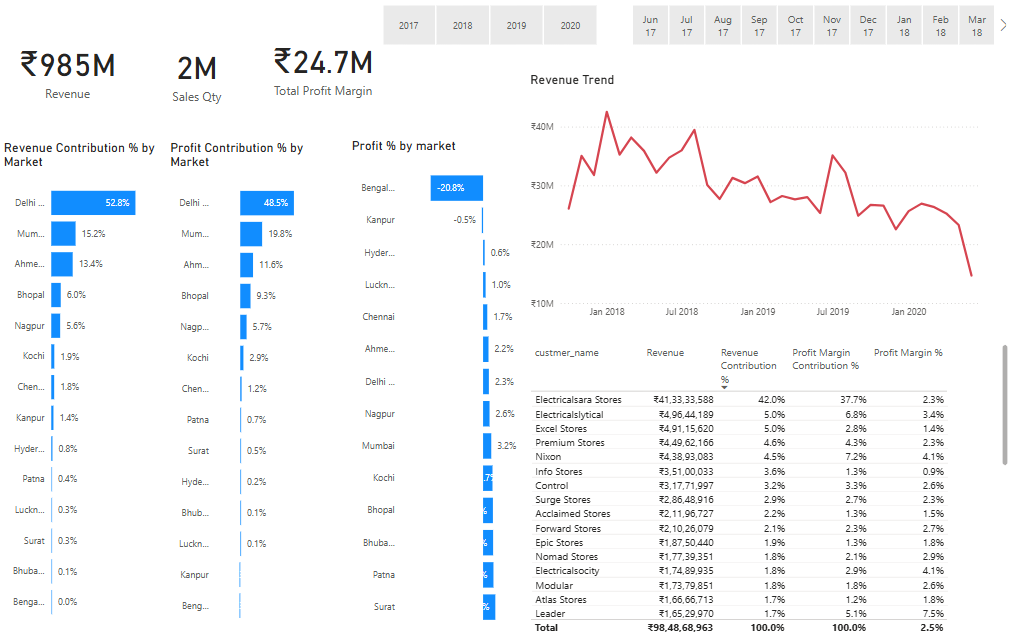

What the dashboard file says about the page in this screenshot:
{"tool":"powerbi","page":{"name":"Profit Analysis","canvas":[1350,850],"ordinal":1},"visuals":[{"type":"card","fields":{"Values":["BaseMeasures (2).Revenue"]},"box":[0,0,179.6,184.8],"z":0},{"type":"card","fields":{"Values":["BaseMeasures (2).Sales Qty"]},"box":[179.6,0,164.1,193],"z":1000},{"type":"barChart","title":"Profit % by market","fields":{"Y":["BaseMeasures (2).Profit Margin %"],"Category":["sales markets.markets_name"]},"box":[464.5,184.8,230.2,664.8],"z":2000},{"type":"barChart","title":"Profit Contribution % by Market","fields":{"Y":["BaseMeasures (2).Profit Margin Contribution %"],"Category":["sales markets.markets_name"]},"box":[221.9,185.8,208.5,659.6],"z":3000},{"type":"slicer","fields":{"Values":["sales date.year"]},"box":[483.2,0,335.5,66.5],"z":4000},{"type":"slicer","fields":{"Values":["sales date.cy_date"]},"box":[818.6,0,531.7,66.5],"z":5000},{"type":"tableEx","title":"Top 5 Customers","fields":{"Values":["sales customers.custmer_name","BaseMeasures (2).Revenue","BaseMeasures (2).Revenue Contribution %","BaseMeasures (2).Profit Margin Contribution %","BaseMeasures (2).Profit Margin %"]},"box":[701.9,454.2,648.3,395.4],"z":6000},{"type":"lineChart","title":"Revenue Trend","fields":{"Y":["BaseMeasures (2).Revenue"],"Category":["sales date.cy_date"]},"box":[702,96,622,338],"z":7000},{"type":"card","fields":{"Values":["BaseMeasures (2).Total Profit Margin"]},"box":[349.9,0,161,176.5],"z":8000},{"type":"barChart","title":"Revenue Contribution % by Market","fields":{"Y":["BaseMeasures (2).Revenue Contribution %"],"Category":["sales markets.markets_name"]},"box":[0,185.8,219.9,654.5],"z":9000}]}

Visuals, with their boxes in screenshot pixels (x1, y1, x2, y2), scaled from the page's 1350x850 canvas onto the 1009x634 screenshot:
card - BaseMeasures (2).Revenue: locate(0, 0, 134, 138)
card - BaseMeasures (2).Sales Qty: locate(134, 0, 257, 144)
"Profit % by market" barChart: locate(347, 138, 519, 633)
"Profit Contribution % by Market" barChart: locate(166, 139, 322, 631)
slicer - sales date.year: locate(361, 0, 612, 50)
slicer - sales date.cy_date: locate(612, 0, 1008, 50)
"Top 5 Customers" tableEx: locate(525, 339, 1008, 633)
"Revenue Trend" lineChart: locate(525, 72, 990, 324)
card - BaseMeasures (2).Total Profit Margin: locate(262, 0, 382, 132)
"Revenue Contribution % by Market" barChart: locate(0, 139, 164, 627)
